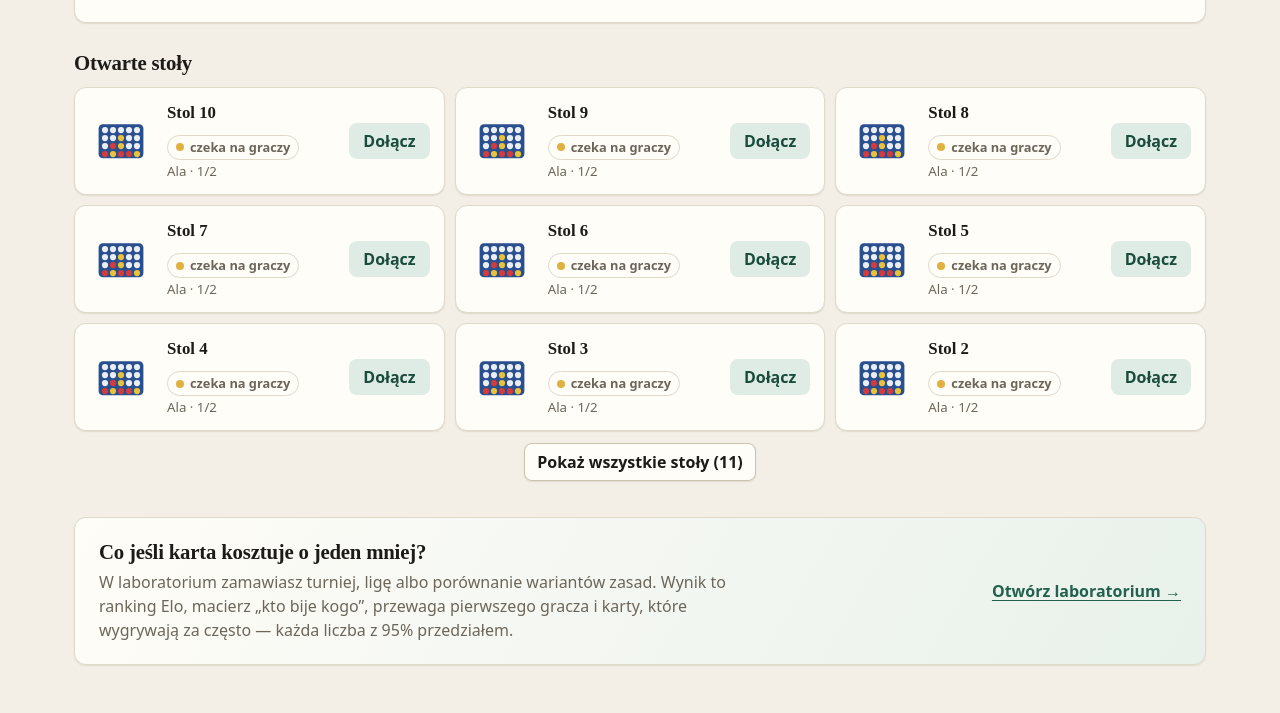
Test: room rows › show nine open tables at first and the rest on request
(page scrolled)
Step 1. Click the button "Pokaż wszystkie stoły (11)" → [640, 462], box [524, 443, 756, 481]
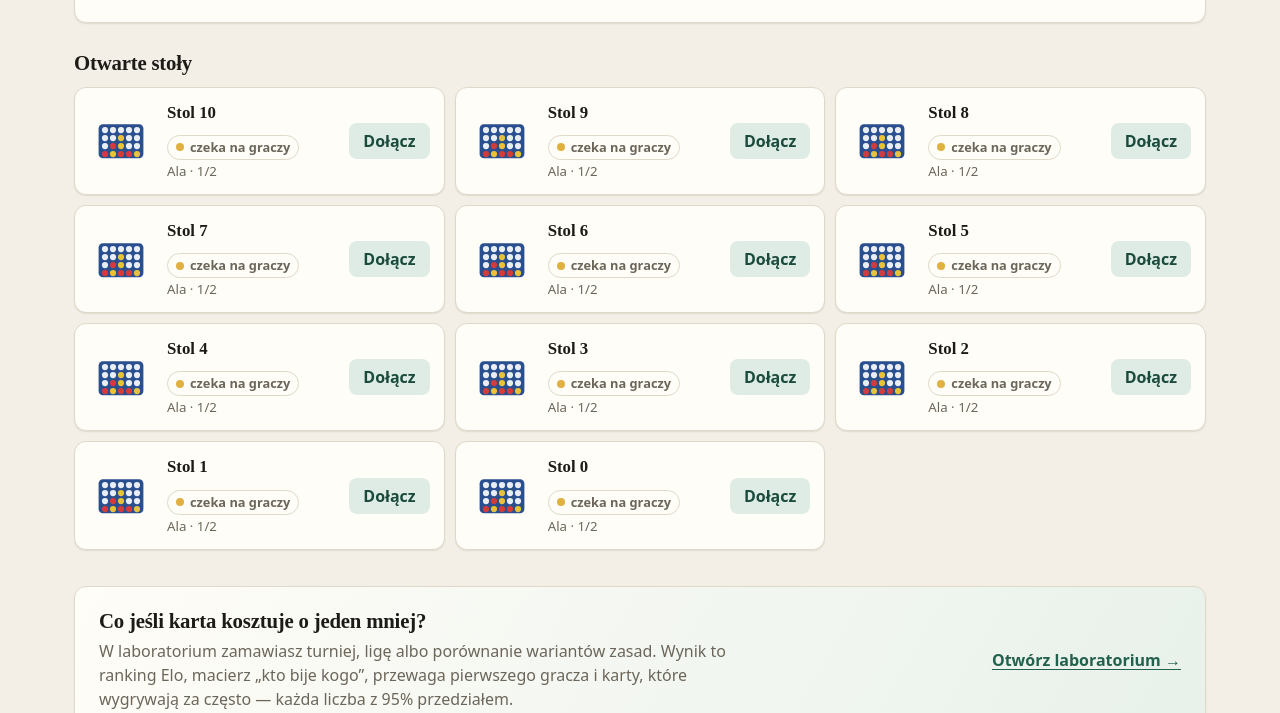
Result: the button "Pokaż wszystkie" is gone
